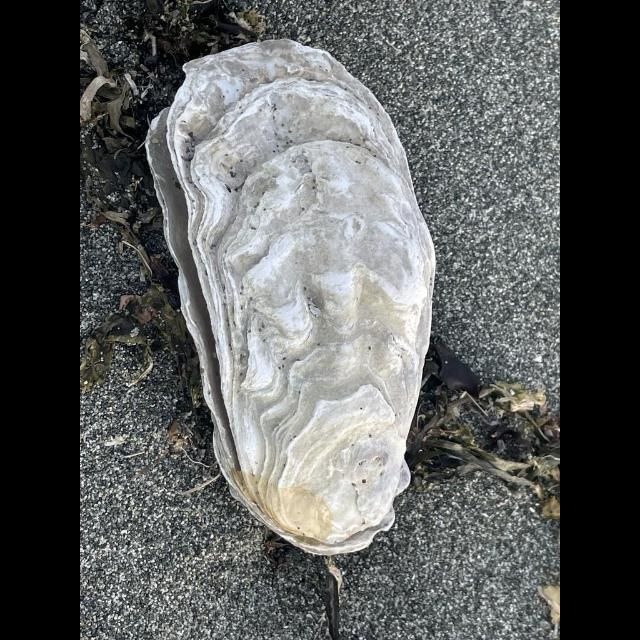Oyster-Open: (140, 34, 442, 556)
